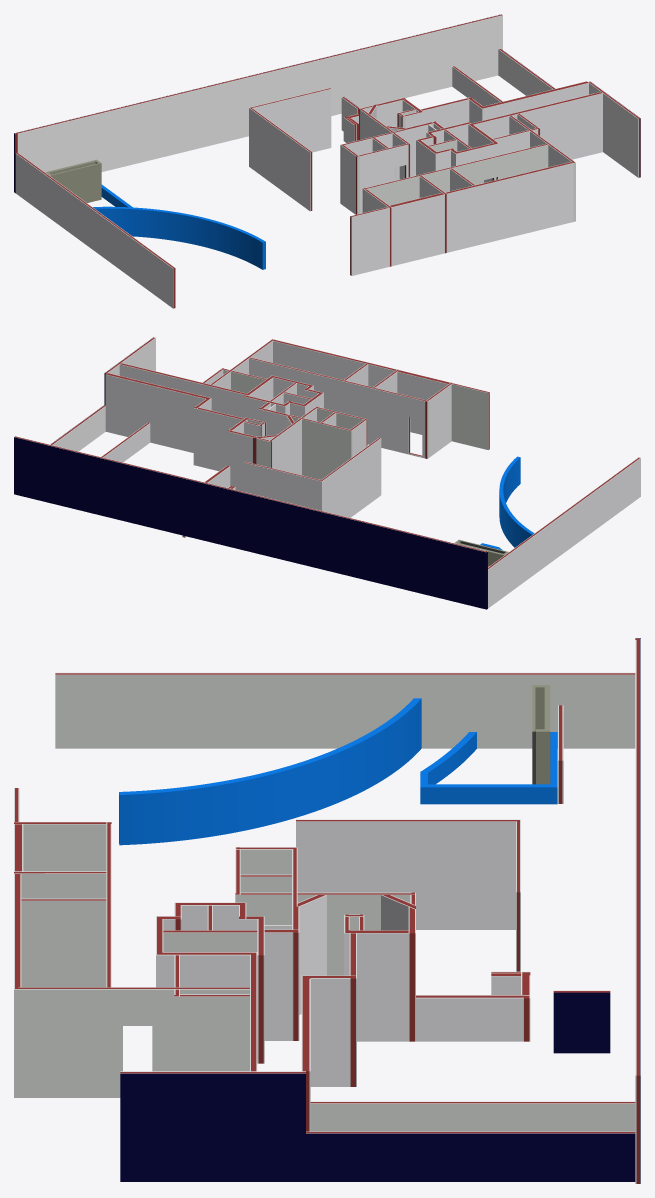
The model's file is PROJETO BIM 12 ANDARES_Primeiro_pavimento_IfcWallStandardCase.dae.
The picture shows the model from 3 angles, top to bottom: view 1: azimuth 30°, elevation 25°; view 2: azimuth 150°, elevation 25°; view 3: azimuth 270°, elevation 25°; orthographic projection. The views are drawn at different scales.
Parts seen in each view (by area): view 1: 0Ouhqo1cj48OnzCKtPWp$a, 0Ouhqo1cj48OnzCKtPWpMh, 0Ouhqo1cj48OnzCKtPWpbP, 3TRKTFABTFWh5s0b_5QA4f, 2cjhRVfYXEDAWfLyRM4$td, 2cjhRVfYXEDAWfLyRM4_ZC, 2cjhRVfYXEDAWfLyRM4$gh, 0Ouhqo1cj48OnzCKtPWphi, 2cjhRVfYXEDAWfLyRM4$o4, 2cjhRVfYXEDAWfLyRM4_ab, 2cjhRVfYXEDAWfLyRM4$p2, 2cjhRVfYXEDAWfLyRM4_DU (+17 smaller); view 2: 0Ouhqo1cj48OnzCKtPWp$a, 0Ouhqo1cj48OnzCKtPWpbP, 0Ouhqo1cj48OnzCKtPWphi, 1dgTlpsF5FavBPG93ikY$I, 2cjhRVfYXEDAWfLyRM4_ZC, 2cjhRVfYXEDAWfLyRM4_ab, 2cjhRVfYXEDAWfLyRM4_ER, 0Ouhqo1cj48OnzCKtPWpMh, 2cjhRVfYXEDAWfLyRM4$p2, 2cjhRVfYXEDAWfLyRM4$td, 2cjhRVfYXEDAWfLyRM4$gh, 1dgTlpsF5FavBPG93ikYyX (+14 smaller); view 3: 0Ouhqo1cj48OnzCKtPWpbP, 2cjhRVfYXEDAWfLyRM4$gh, 2cjhRVfYXEDAWfLyRM4_ZC, 3TRKTFABTFWh5s0b_5QA4f, 0Ouhqo1cj48OnzCKtPWpkn, 0Ouhqo1cj48OnzCKtPWpxF, 0Ouhqo1cj48OnzCKtPWpNB, 2cjhRVfYXEDAWfLyRM4_IW, 2cjhRVfYXEDAWfLyRM4$s4, 21dPFGigL2Mxi$rUJVg1nA, 1dgTlpsF5FavBPG93ikYzU, 2cjhRVfYXEDAWfLyRM4_AV (+22 smaller).
Part boxes in pixels (bbox=[...]): 0Ouhqo1cj48OnzCKtPWp$a: bbox=[14, 14, 502, 192]; 0Ouhqo1cj48OnzCKtPWpMh: bbox=[445, 161, 573, 252]; 0Ouhqo1cj48OnzCKtPWpbP: bbox=[15, 152, 175, 308]; 3TRKTFABTFWh5s0b_5QA4f: bbox=[93, 206, 265, 269]; 2cjhRVfYXEDAWfLyRM4$td: bbox=[468, 92, 602, 159]; 2cjhRVfYXEDAWfLyRM4_ZC: bbox=[250, 108, 312, 211]; 2cjhRVfYXEDAWfLyRM4$gh: bbox=[498, 48, 640, 177]; 0Ouhqo1cj48OnzCKtPWphi: bbox=[362, 143, 548, 212]; 2cjhRVfYXEDAWfLyRM4$o4: bbox=[390, 193, 444, 266]; 2cjhRVfYXEDAWfLyRM4_ab: bbox=[249, 88, 331, 167]; 2cjhRVfYXEDAWfLyRM4$p2: bbox=[350, 207, 389, 275]; 2cjhRVfYXEDAWfLyRM4_DU: bbox=[359, 143, 410, 213]; 0Ouhqo1cj48OnzCKtPWp$a: bbox=[14, 436, 487, 609]; 0Ouhqo1cj48OnzCKtPWpbP: bbox=[488, 457, 640, 608]; 0Ouhqo1cj48OnzCKtPWphi: bbox=[249, 357, 428, 458]; 1dgTlpsF5FavBPG93ikY$I: bbox=[105, 373, 211, 452]; 2cjhRVfYXEDAWfLyRM4_ZC: bbox=[321, 437, 381, 517]; 2cjhRVfYXEDAWfLyRM4_ab: bbox=[243, 461, 323, 510]; 2cjhRVfYXEDAWfLyRM4_ER: bbox=[287, 414, 352, 479]; 0Ouhqo1cj48OnzCKtPWpMh: bbox=[273, 339, 396, 387]; 2cjhRVfYXEDAWfLyRM4$p2: bbox=[451, 383, 489, 450]; 2cjhRVfYXEDAWfLyRM4$td: bbox=[119, 363, 250, 417]; 2cjhRVfYXEDAWfLyRM4$gh: bbox=[50, 337, 155, 451]; 1dgTlpsF5FavBPG93ikYyX: bbox=[197, 407, 243, 471]; 0Ouhqo1cj48OnzCKtPWpbP: bbox=[55, 672, 635, 748]; 2cjhRVfYXEDAWfLyRM4$gh: bbox=[120, 1071, 635, 1181]; 2cjhRVfYXEDAWfLyRM4_ZC: bbox=[296, 819, 515, 929]; 3TRKTFABTFWh5s0b_5QA4f: bbox=[119, 698, 421, 845]; 0Ouhqo1cj48OnzCKtPWpkn: bbox=[14, 987, 249, 1097]; 0Ouhqo1cj48OnzCKtPWpxF: bbox=[310, 1101, 635, 1131]; 0Ouhqo1cj48OnzCKtPWpNB: bbox=[21, 898, 106, 987]; 2cjhRVfYXEDAWfLyRM4_IW: bbox=[344, 930, 408, 1041]; 2cjhRVfYXEDAWfLyRM4$s4: bbox=[180, 994, 249, 1071]; 21dPFGigL2Mxi$rUJVg1nA: bbox=[416, 995, 530, 1041]; 1dgTlpsF5FavBPG93ikYzU: bbox=[310, 975, 356, 1086]; 2cjhRVfYXEDAWfLyRM4_AV: bbox=[240, 892, 415, 975].
Size of the model in its own units: 28.08 by 17 by 3.78.
